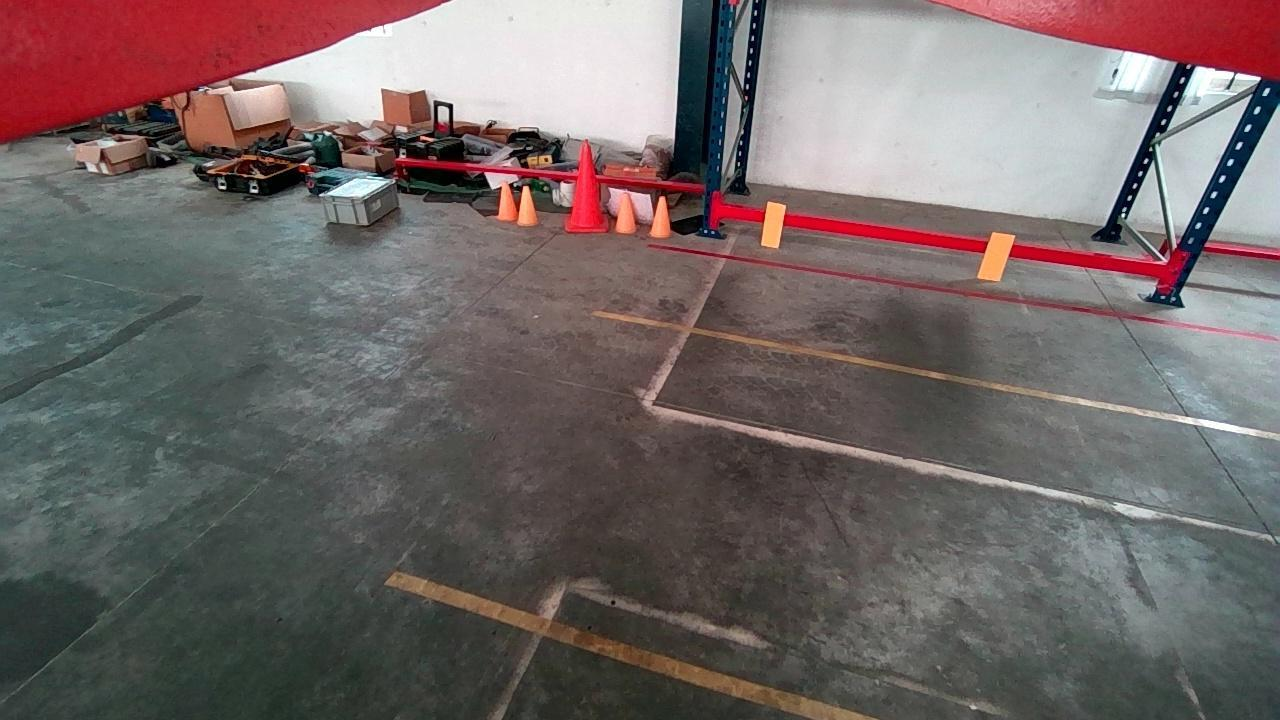h_rack: (723, 206, 1170, 282)
orange_strip: (980, 232, 1015, 281), (760, 202, 784, 245)
red_line: (648, 241, 1280, 342)
yellow_line: (592, 309, 1280, 439), (386, 573, 886, 719)
